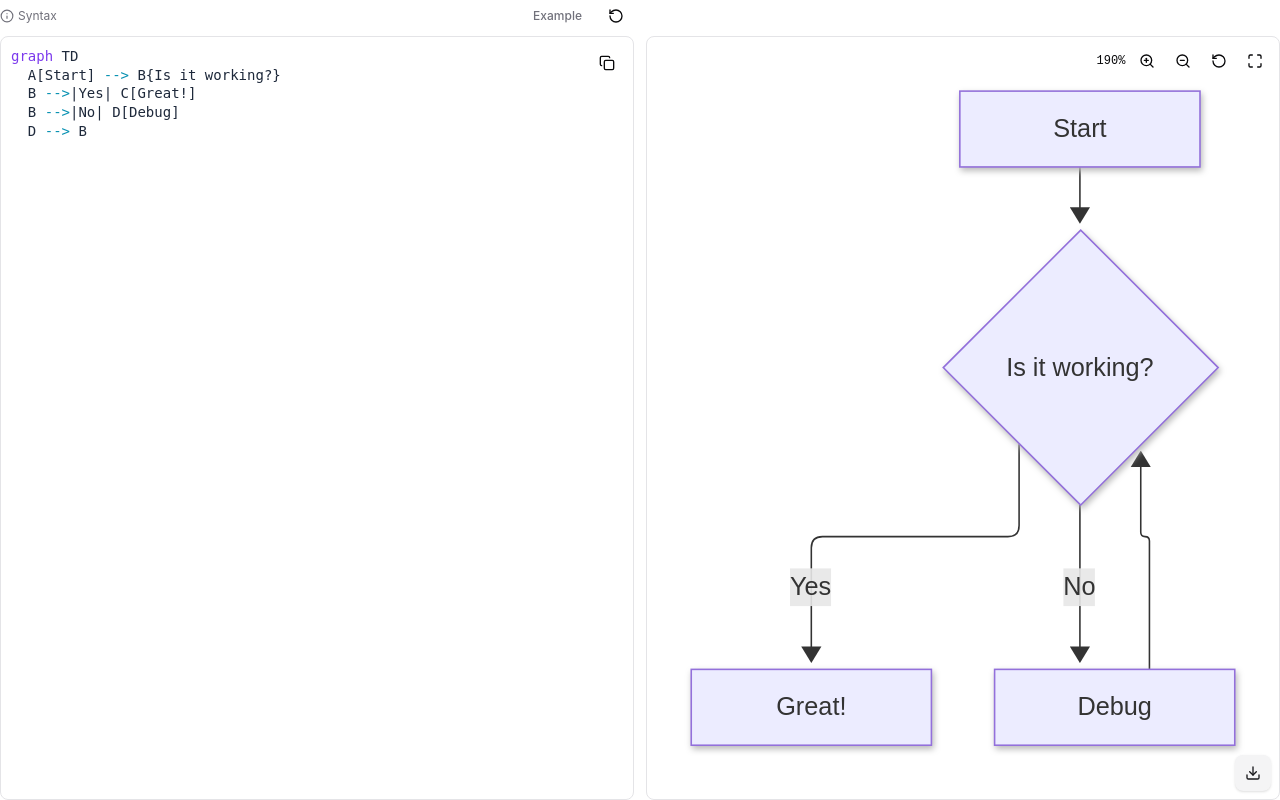
Scenario: opens fullscreen preview from the rendered tool
Click the button named "Fullscreen preview".
click(1255, 61)  # box [1239,45,1271,77]
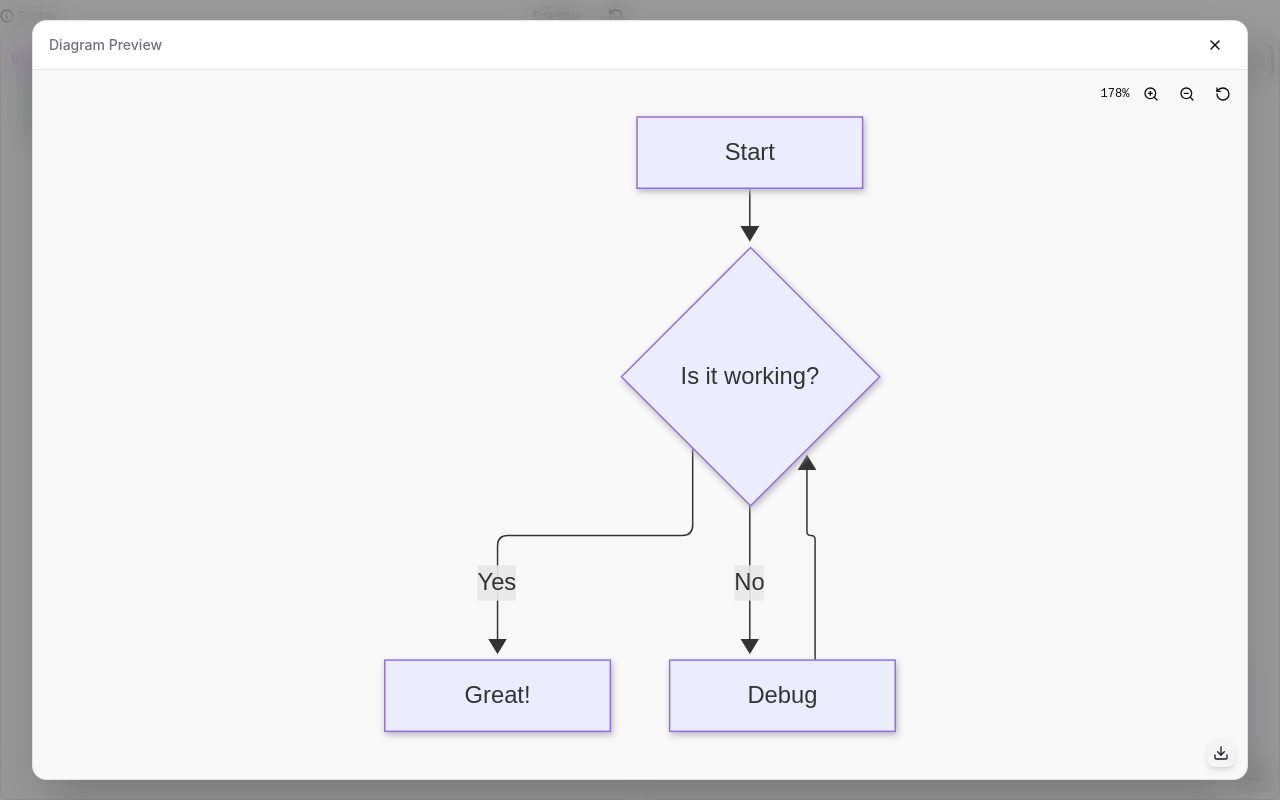
Check: the text "Diagram Preview" is shown, box [49,35,162,55]
